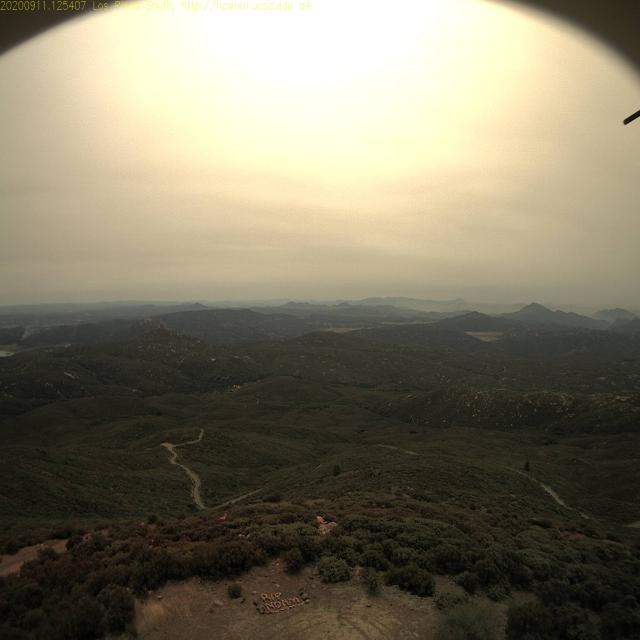smoke: (19, 317, 45, 343)
